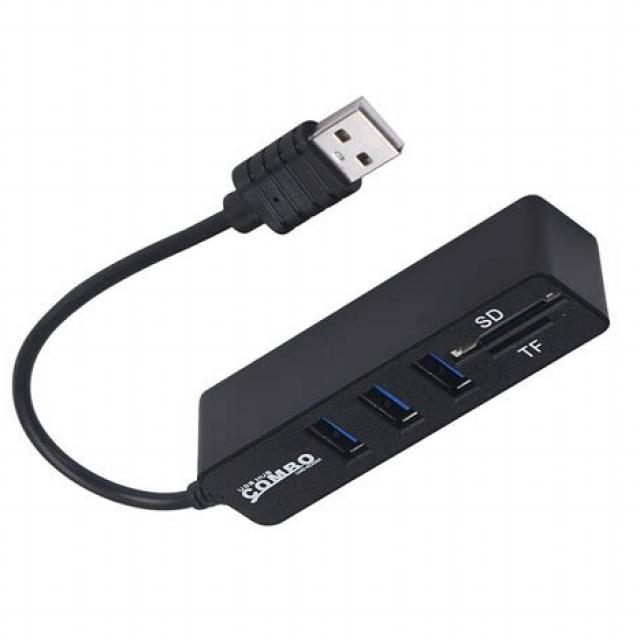usb port: (416, 350, 474, 401), (372, 380, 413, 431), (316, 418, 358, 461)
